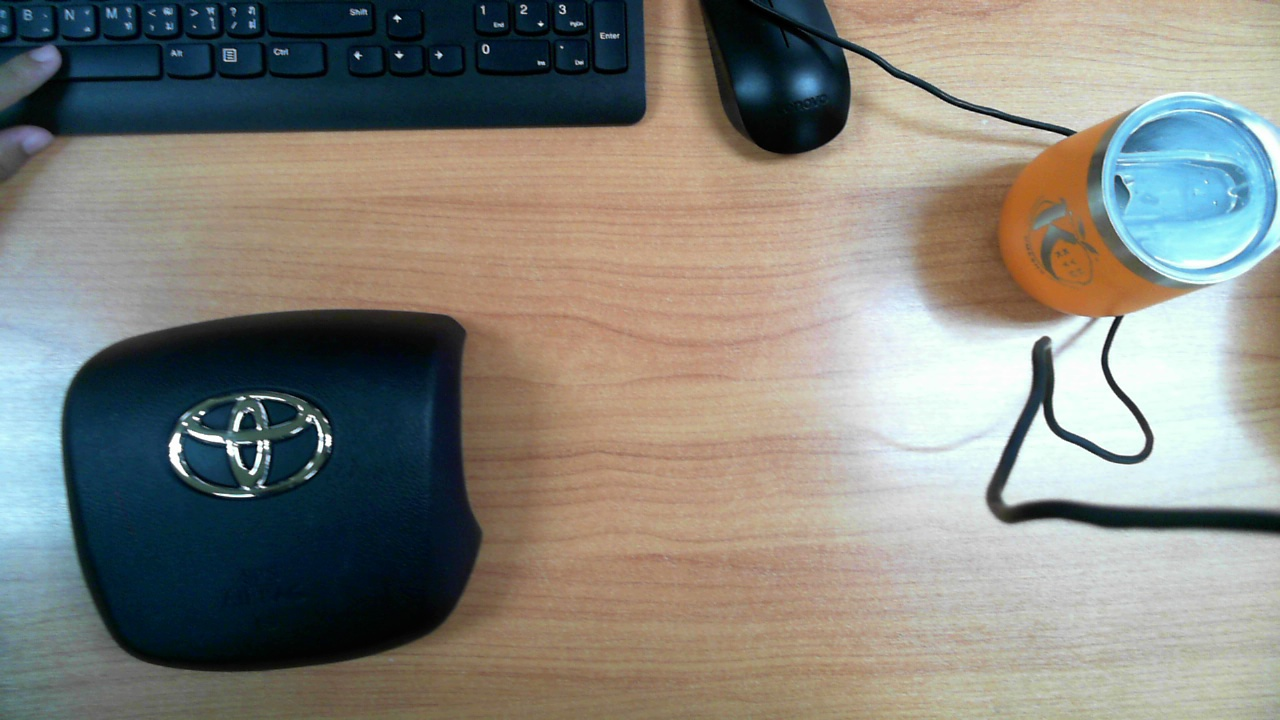Airbag: (61, 308, 483, 673)
Toyota: (164, 391, 333, 500)
